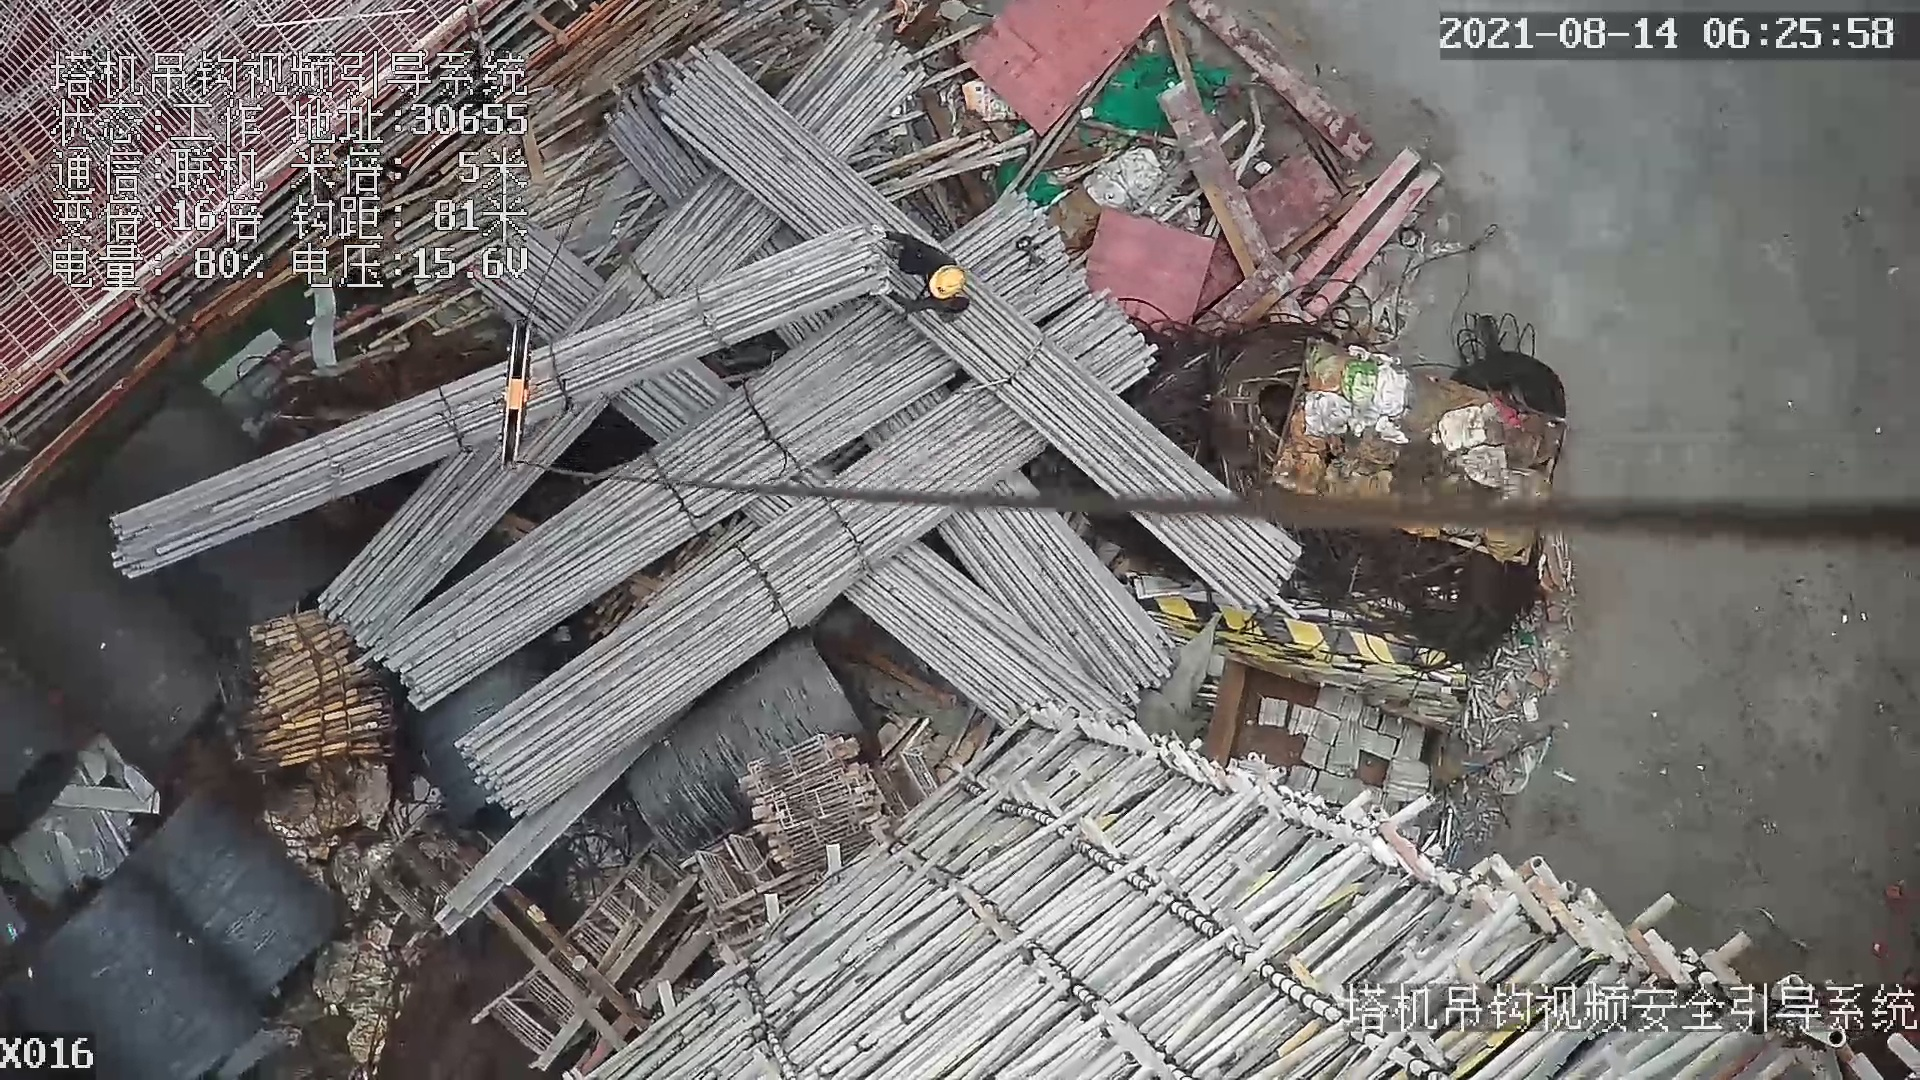helmet: (928, 258, 966, 306)
hook: (491, 315, 537, 476)
person: (867, 227, 972, 317)
